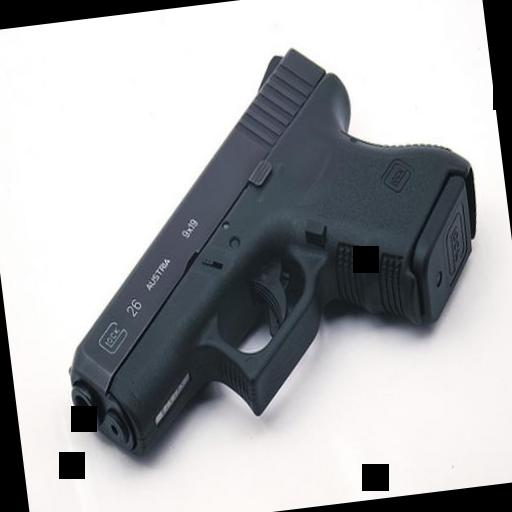Handgun: (16, 26, 505, 469)
